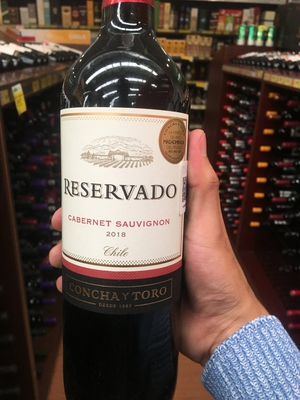reservado cabernet sauvignon: (59, 8, 194, 399)
